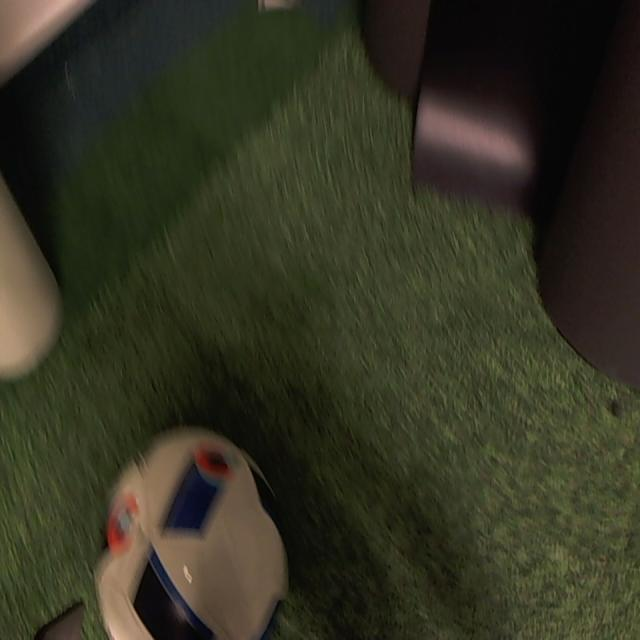ball: (91, 429, 289, 640)
goalpost: (1, 182, 67, 386)
